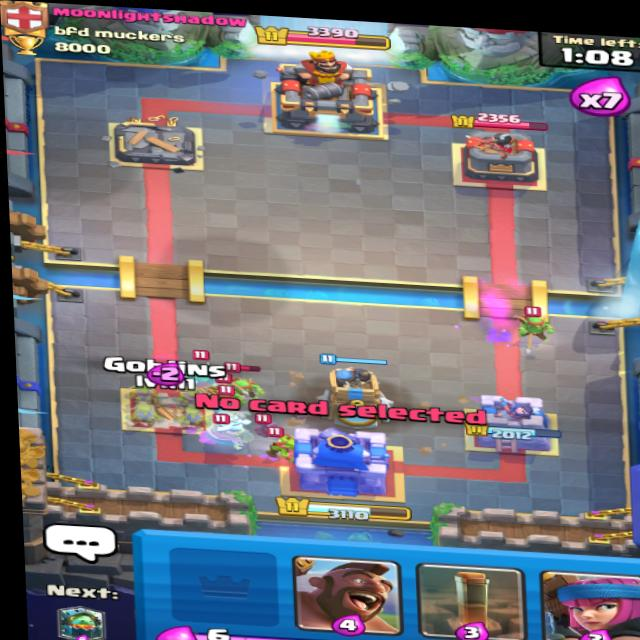Bat: (246, 418, 289, 444)
Goblin: (257, 429, 306, 465)
Speargoblin: (230, 365, 272, 405), (514, 303, 556, 342)
